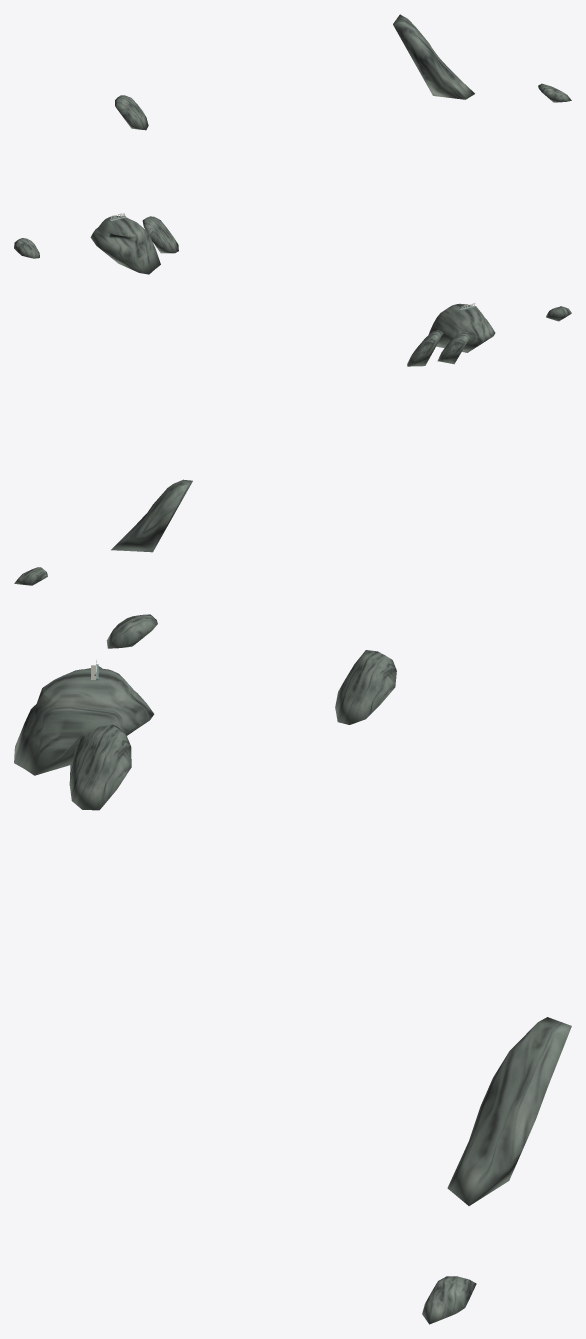
The picture shows the model from 3 angles, top to bottom: view 1: azimuth 30°, elevation 25°; view 2: azimuth 210°, elevation 25°; view 3: azimuth 270°, elevation 25°; orthographic projection. The views are drawn at different scales.
Visible parts, largest first — view 1: co-to-far; view 2: co-to-far; view 3: co-to-far.
Part boxes in pixels (x1,y1,x2,y2): co-to-far: (14,14,571,274); co-to-far: (14,303,571,585); co-to-far: (14,614,571,1324).
Bounding box in the file's own units: 1579 × 308 × 635.
1 material, 1 textured.
